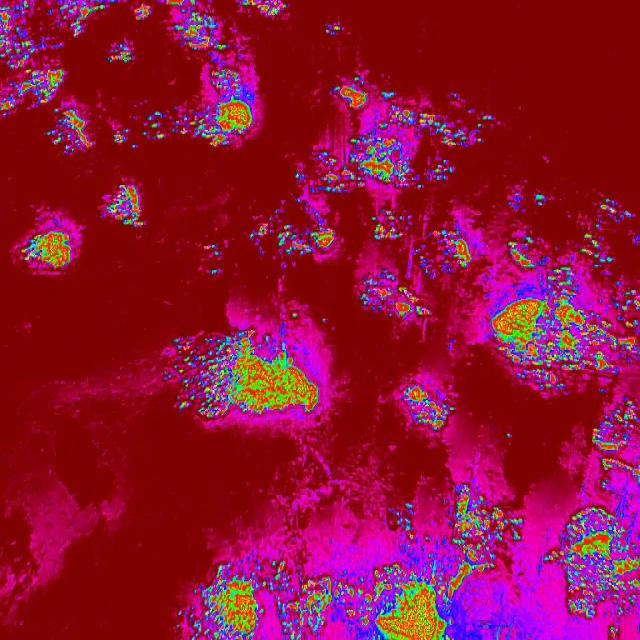fire: (183, 549, 640, 640), (486, 231, 640, 404), (328, 76, 496, 192), (393, 473, 640, 549), (163, 320, 324, 414), (177, 0, 260, 146), (0, 0, 90, 119), (256, 206, 341, 260), (354, 272, 441, 324), (392, 379, 468, 438), (15, 222, 81, 276), (595, 404, 640, 474), (46, 98, 93, 152), (104, 182, 156, 228), (365, 206, 421, 248), (442, 220, 482, 274)
